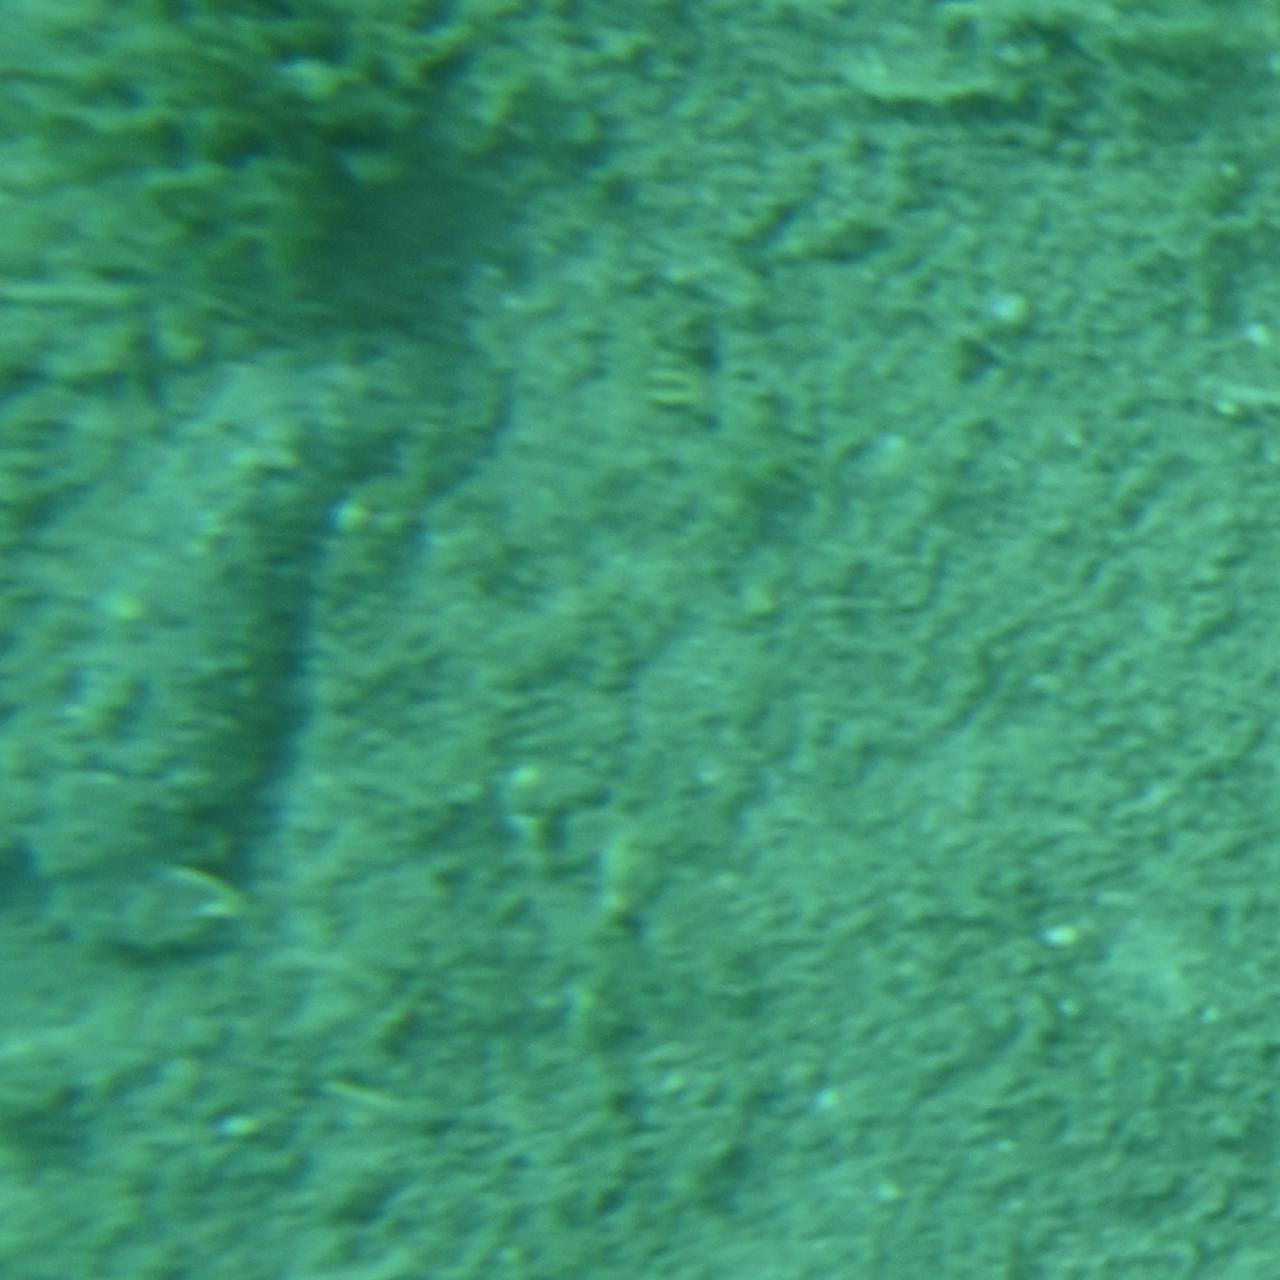Holothuria tubulosa: (0, 304, 510, 976)
